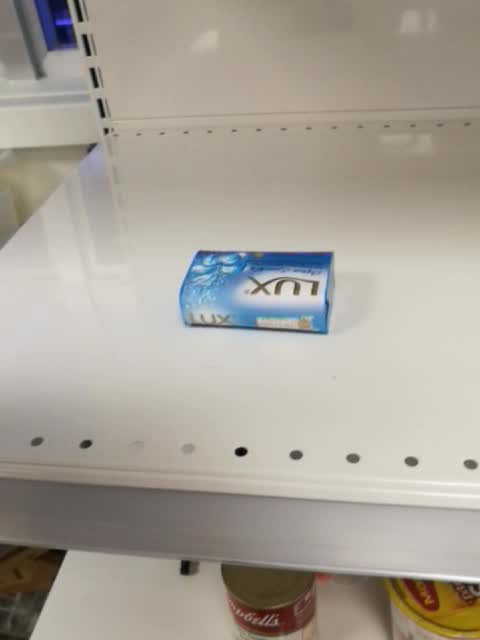soap: (177, 247, 336, 337)
